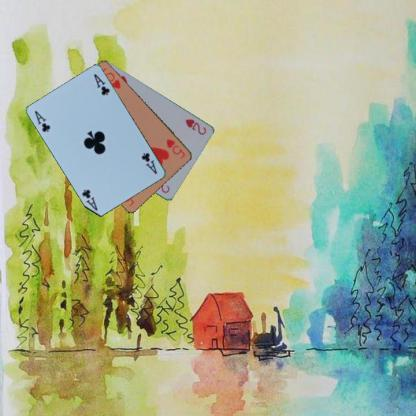2h: (183, 116, 208, 136)
5h: (163, 136, 187, 160)
Ac: (32, 108, 52, 134), (139, 150, 158, 175)
